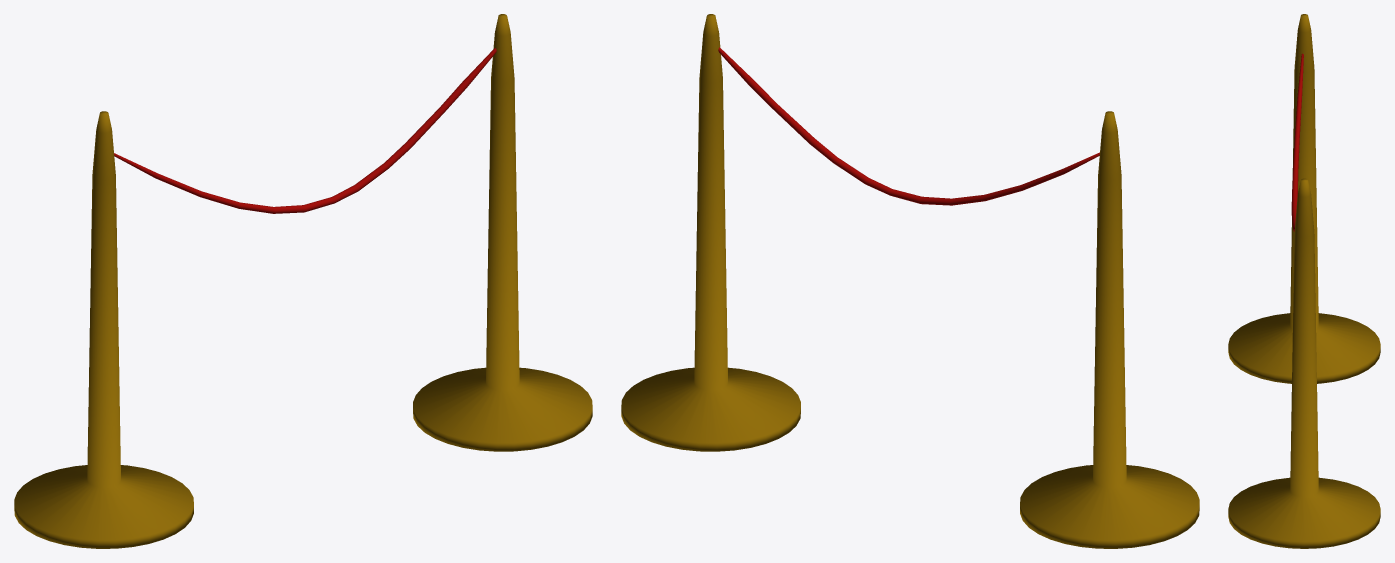
Rendered from ostacolo.fbx.
3 renders of one model, left to right at view 1: azimuth 30°, elevation 25°; view 2: azimuth 150°, elevation 25°; view 3: azimuth 270°, elevation 25°, orthographic. The views are drawn at different scales.
Visible parts, largest first — view 1: Cylinder.001, Cylinder.002, BezierCurve; view 2: Cylinder.001, Cylinder.002, BezierCurve; view 3: Cylinder.002, Cylinder.001, BezierCurve.
Boxes of the visible parts, bbox=[...] form: Cylinder.001: bbox=[14, 111, 193, 548]; Cylinder.002: bbox=[413, 14, 592, 451]; BezierCurve: bbox=[114, 48, 496, 213]; Cylinder.001: bbox=[1020, 111, 1199, 548]; Cylinder.002: bbox=[621, 14, 800, 451]; BezierCurve: bbox=[718, 47, 1099, 205]; Cylinder.002: bbox=[1228, 178, 1380, 548]; Cylinder.001: bbox=[1228, 14, 1380, 383]; BezierCurve: bbox=[1291, 53, 1303, 231].
Size of the model in its own units: 282 by 194 by 79.44.
